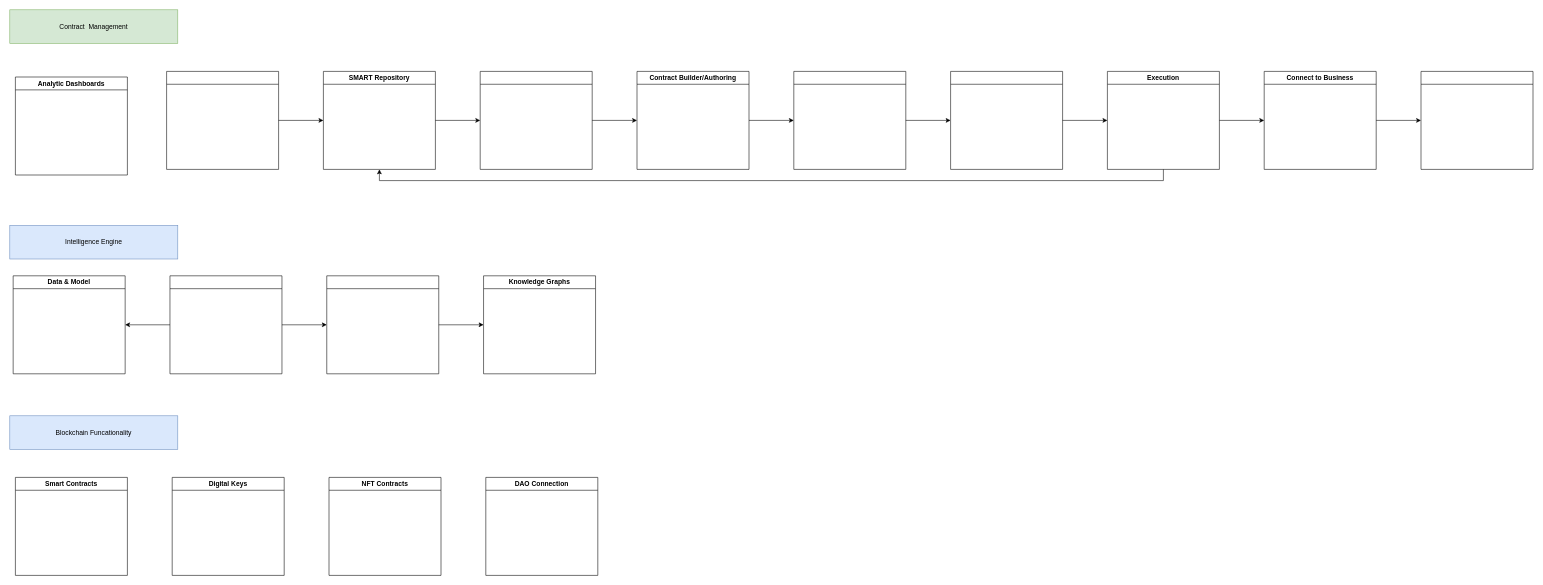
Some shapes in this 1543 by 585 pixel diagram are drawn without their labels. The shapes that lost their labels are listed below. From the top down, each one's centre as x and y in pixels, then its label:
At pixel 222 120: "Robo Consultant".
At pixel 536 120: "Contract Request".
At pixel 849 120: "Negotiations".
At pixel 1006 120: "Approval/Compliance".
At pixel 1476 120: "Blockchain".
At pixel 225 324: "AI/ML".
At pixel 382 324: "LLM".
